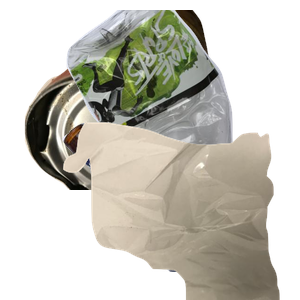glass: (60, 120, 300, 300)
metal: (22, 10, 251, 190)
plastic: (64, 10, 300, 190)
trash: (61, 120, 300, 300)
